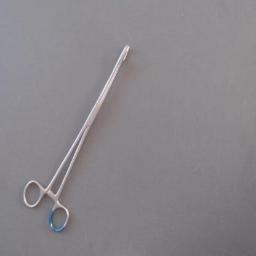Sponge Forceps: (19, 38, 137, 238)
